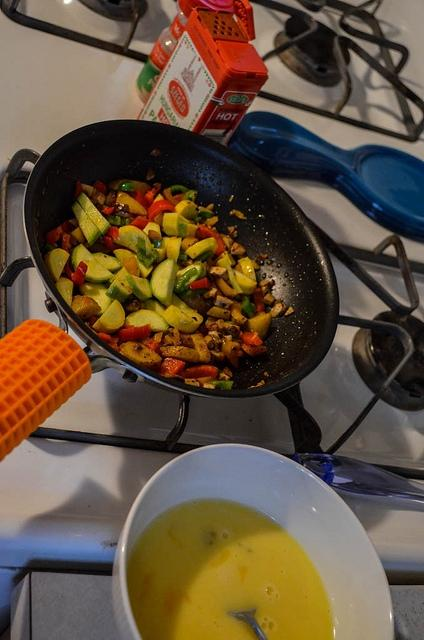potato: (119, 340, 162, 371), (115, 190, 148, 216), (160, 346, 200, 364), (70, 296, 102, 316), (190, 333, 211, 363), (246, 313, 270, 338), (222, 341, 239, 368), (216, 320, 240, 338), (162, 326, 182, 346), (206, 304, 231, 320), (232, 300, 248, 324), (241, 342, 268, 356), (185, 378, 200, 386)
vegetable marrow: (72, 244, 115, 284), (76, 192, 111, 235), (149, 258, 180, 305), (72, 202, 102, 246), (162, 305, 203, 334), (92, 300, 126, 334), (114, 230, 153, 257), (104, 266, 132, 302), (80, 282, 110, 315), (125, 310, 168, 332), (45, 248, 70, 284), (124, 274, 152, 302), (162, 213, 196, 236), (185, 237, 219, 260), (113, 249, 140, 277), (105, 178, 152, 194), (226, 258, 243, 294), (233, 269, 257, 294), (92, 252, 122, 272), (54, 278, 74, 308), (175, 200, 199, 222), (82, 184, 106, 205), (238, 256, 256, 282), (166, 292, 192, 310), (167, 236, 182, 261), (146, 298, 165, 316), (180, 190, 198, 202)
